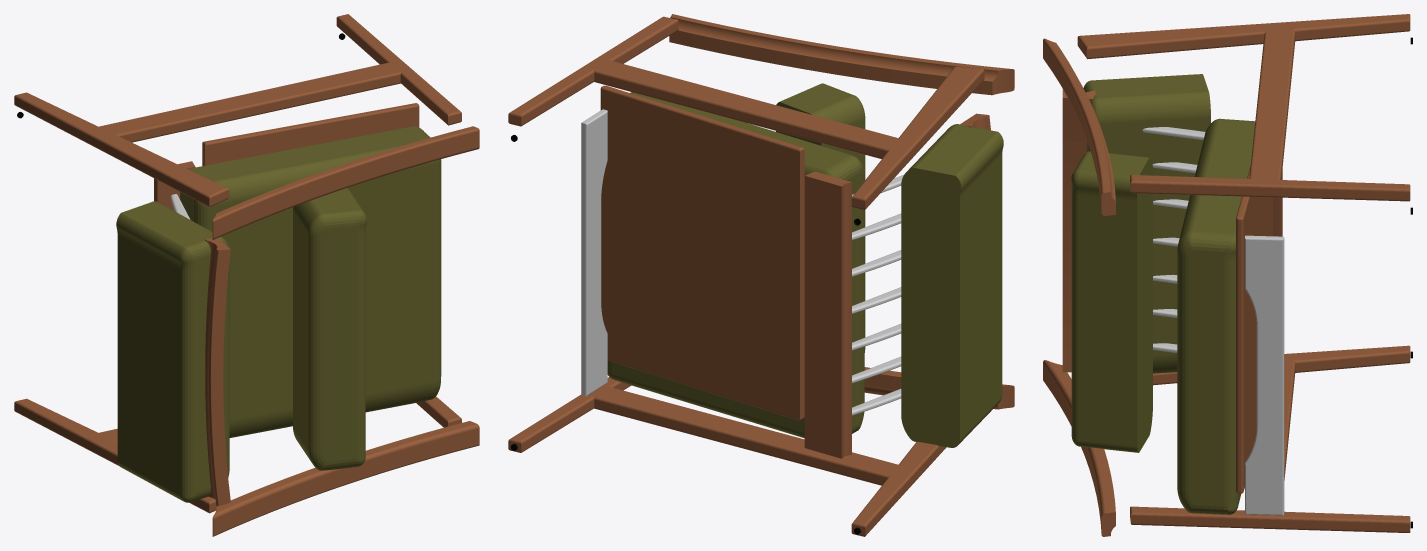
The model's file is chair_3.obj.
The picture shows the model from 3 angles, left to right: view 1: azimuth 30°, elevation 25°; view 2: azimuth 150°, elevation 25°; view 3: azimuth 270°, elevation 25°; orthographic projection. The views are drawn at different scales.
Parts seen in each view (by area): view 1: obj1603, obj550, obj81, obj3675, obj2717, obj1447, obj26, obj6131, obj590, obj3567, obj578, obj3555 (+20 smaller); view 2: obj2715, obj515, obj6159, obj550, obj3675, obj2077, obj5179, obj2108, obj3616, obj2001, obj578, obj1447 (+10 smaller); view 3: obj41, obj1033, obj5178, obj3675, obj535, obj6, obj1447, obj2715, obj2091, obj3599, obj2077, obj578 (+22 smaller).
Boxes of the visible parts, left/top/right/bottom form: obj1603: left=210, top=165, right=432, bottom=420; obj550: left=117, top=235, right=181, bottom=494; obj81: left=322, top=225, right=356, bottom=461; obj3675: left=18, top=14, right=458, bottom=195; obj2717: left=205, top=107, right=417, bottom=165; obj1447: left=190, top=126, right=425, bottom=180; obj26: left=293, top=211, right=308, bottom=448; obj6131: left=211, top=249, right=230, bottom=505; obj590: left=195, top=255, right=223, bottom=492; obj3567: left=120, top=75, right=400, bottom=141; obj578: left=121, top=202, right=212, bottom=247; obj3555: left=14, top=97, right=209, bottom=205; obj2715: left=604, top=90, right=799, bottom=419; obj515: left=901, top=168, right=961, bottom=447; obj6159: left=804, top=176, right=841, bottom=458; obj550: left=960, top=155, right=1001, bottom=438; obj3675: left=512, top=17, right=980, bottom=197; obj2077: left=512, top=377, right=935, bottom=524; obj5179: left=587, top=113, right=607, bottom=394; obj2108: left=594, top=399, right=887, bottom=484; obj3616: left=594, top=73, right=887, bottom=157; obj2001: left=846, top=172, right=862, bottom=427; obj578: left=918, top=125, right=996, bottom=175; obj1447: left=634, top=93, right=847, bottom=170; obj41: left=1078, top=195, right=1137, bottom=445; obj1033: left=1188, top=250, right=1225, bottom=506; obj5178: left=1246, top=240, right=1282, bottom=514; obj3675: left=1081, top=14, right=1407, bottom=188; obj535: left=1100, top=118, right=1210, bottom=354; obj6: left=1137, top=157, right=1152, bottom=452; obj1447: left=1194, top=120, right=1254, bottom=233; obj2715: left=1244, top=196, right=1272, bottom=489; obj2091: left=1130, top=515, right=1410, bottom=531; obj3599: left=1130, top=184, right=1410, bottom=199; obj2077: left=1132, top=346, right=1407, bottom=520; obj578: left=1091, top=74, right=1208, bottom=96.
Bounding box in the file's own units: 30.81 × 28.7 × 27.22.
